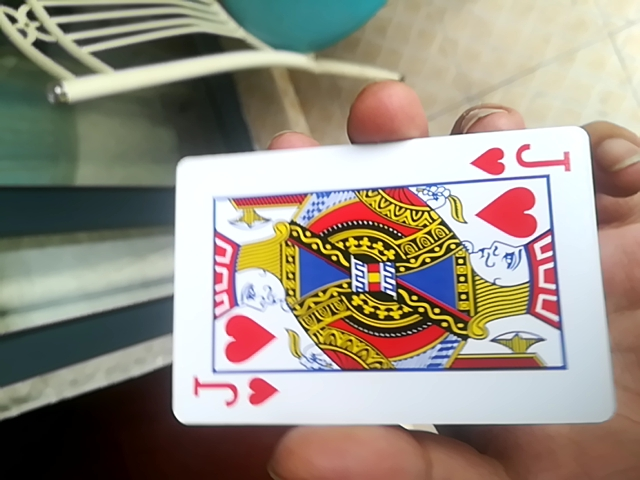hx j: (172, 125, 611, 434)
